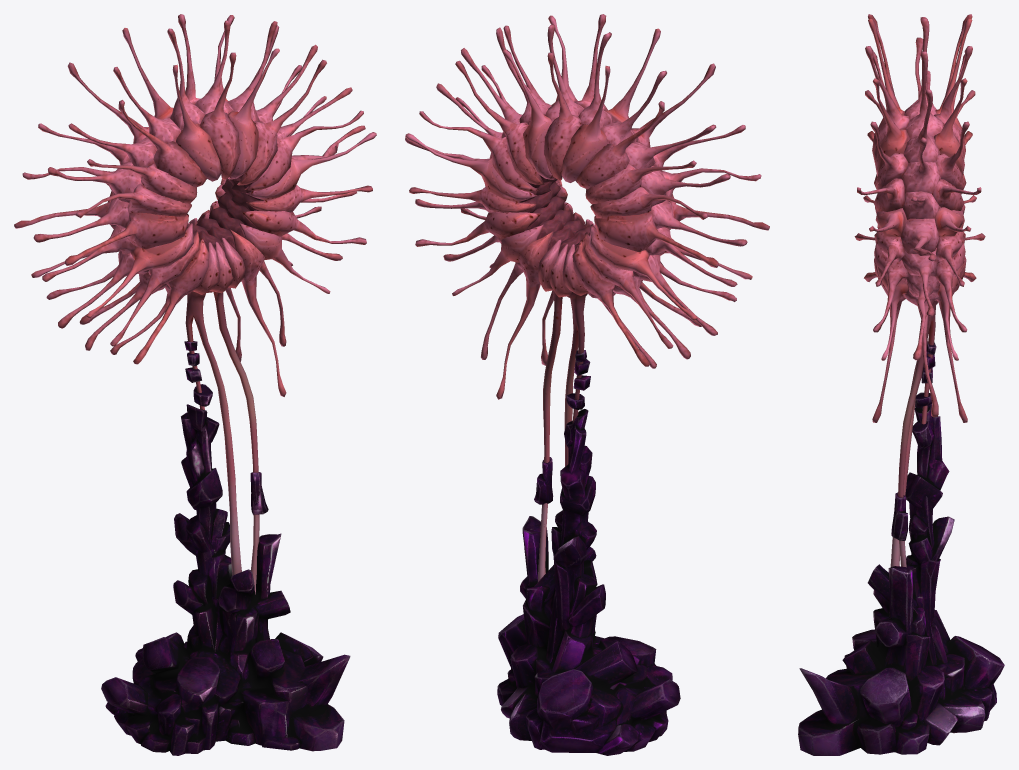
Rendered from planta.obj.
3 views of the same model, side by side, from view 1: azimuth 30°, elevation 25°; view 2: azimuth 150°, elevation 25°; view 3: azimuth 270°, elevation 25° (orthographic). The views are drawn at different scales.
Parts seen in each view (by area): view 1: generic_plant_crystal_tall__0; view 2: generic_plant_crystal_tall__0; view 3: generic_plant_crystal_tall__0.
Part boxes in pixels (<box>): generic_plant_crystal_tall__0: <box>14,14,376,755</box>; generic_plant_crystal_tall__0: <box>405,14,769,755</box>; generic_plant_crystal_tall__0: <box>798,14,1004,755</box>.
Bounding box in the file's own units: 5.4 × 10.8 × 2.96.
1 material, 1 textured.
